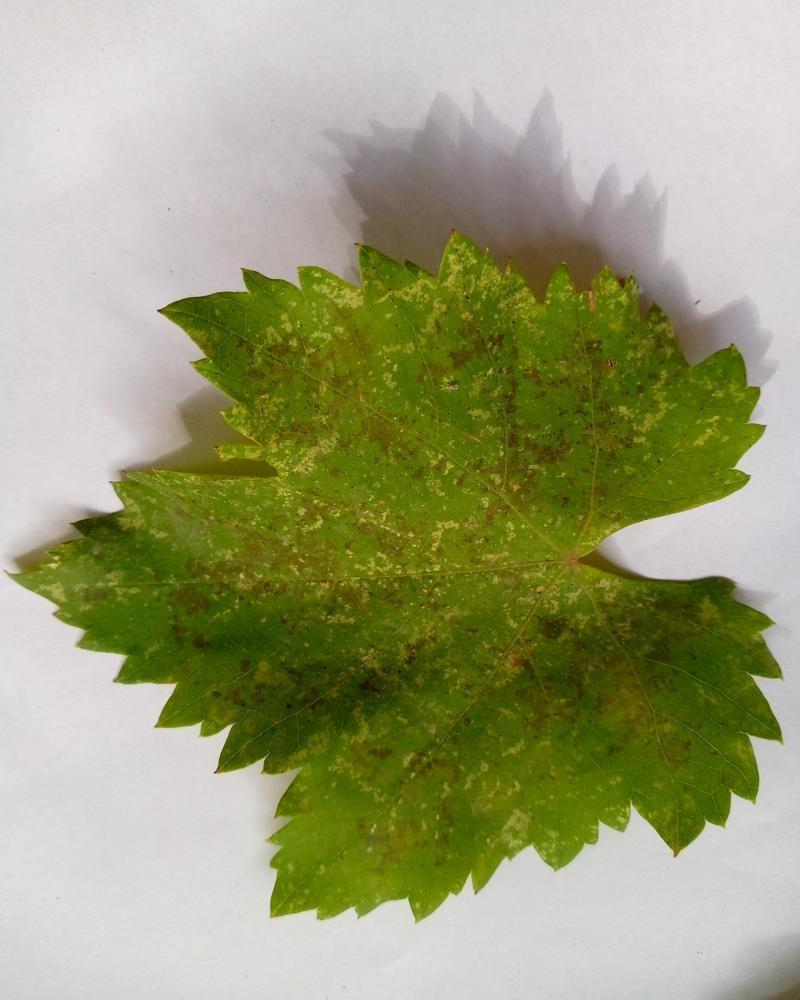Powdery-Mildew: (266, 509, 463, 631), (564, 333, 676, 467), (477, 581, 596, 700), (263, 655, 407, 753), (428, 252, 527, 356), (306, 287, 369, 350), (50, 547, 113, 610)
